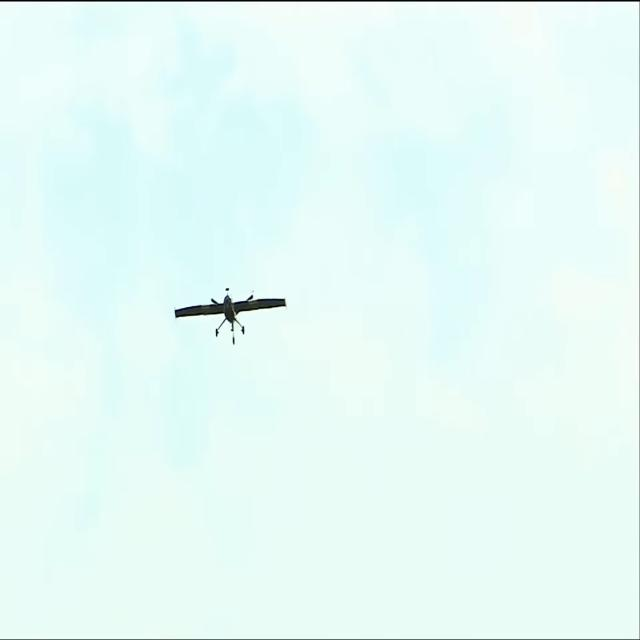iha: (205, 287, 255, 343)
